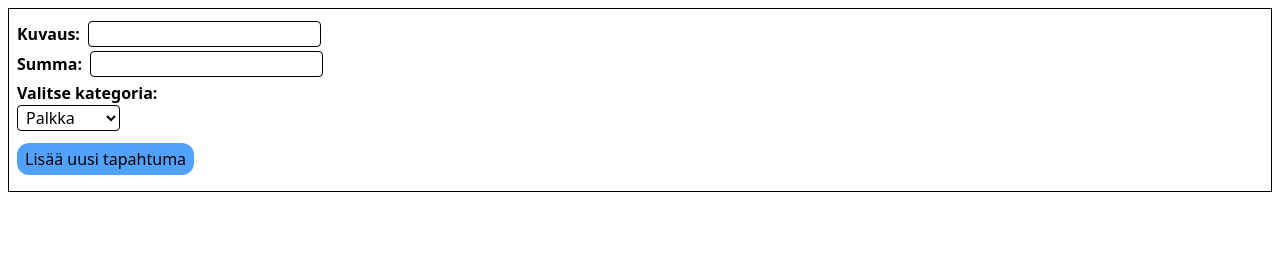
Test: AddNewTransaction tests › Displays errors with bad inputs
The image size is (1280, 257).
Type "a" into the field labelled "Kuvaus:".
click(204, 34); type("a")  # box [88,21,321,47]
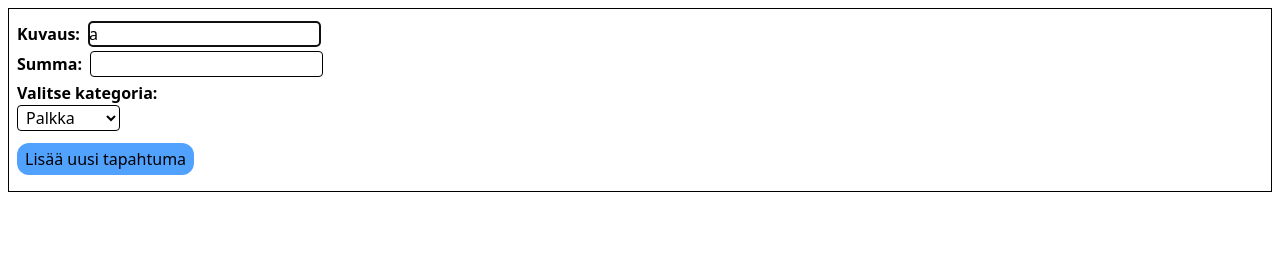
Type "a" into the field labelled "Summa:".
click(206, 64); type("a")  # box [90,51,323,77]
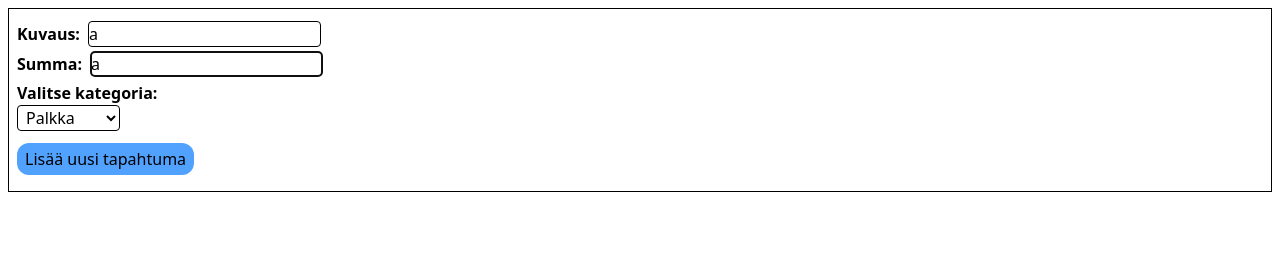
Select "Laskut" in the dropdown at (68, 118), box [17,105,120,131]
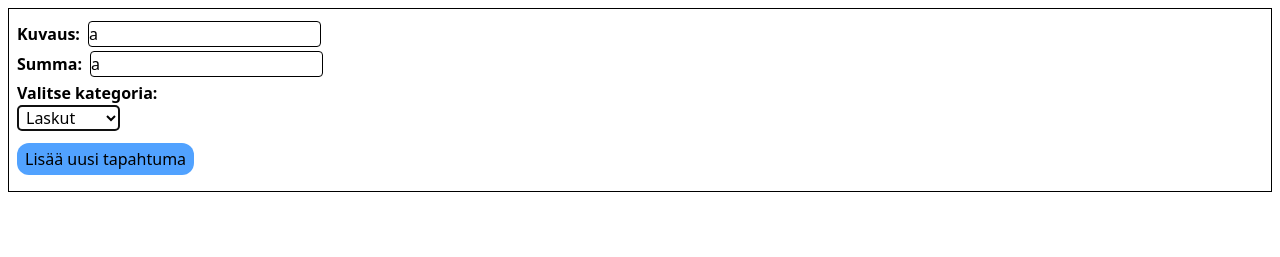
Click the button.
click(106, 159)  # box [17,143,194,175]
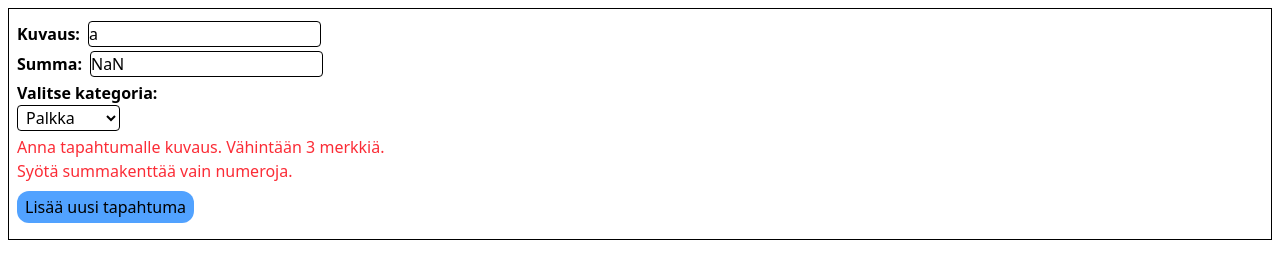
Now the number of list items is 2, box [17,136,384,158]; [17,160,292,182]
